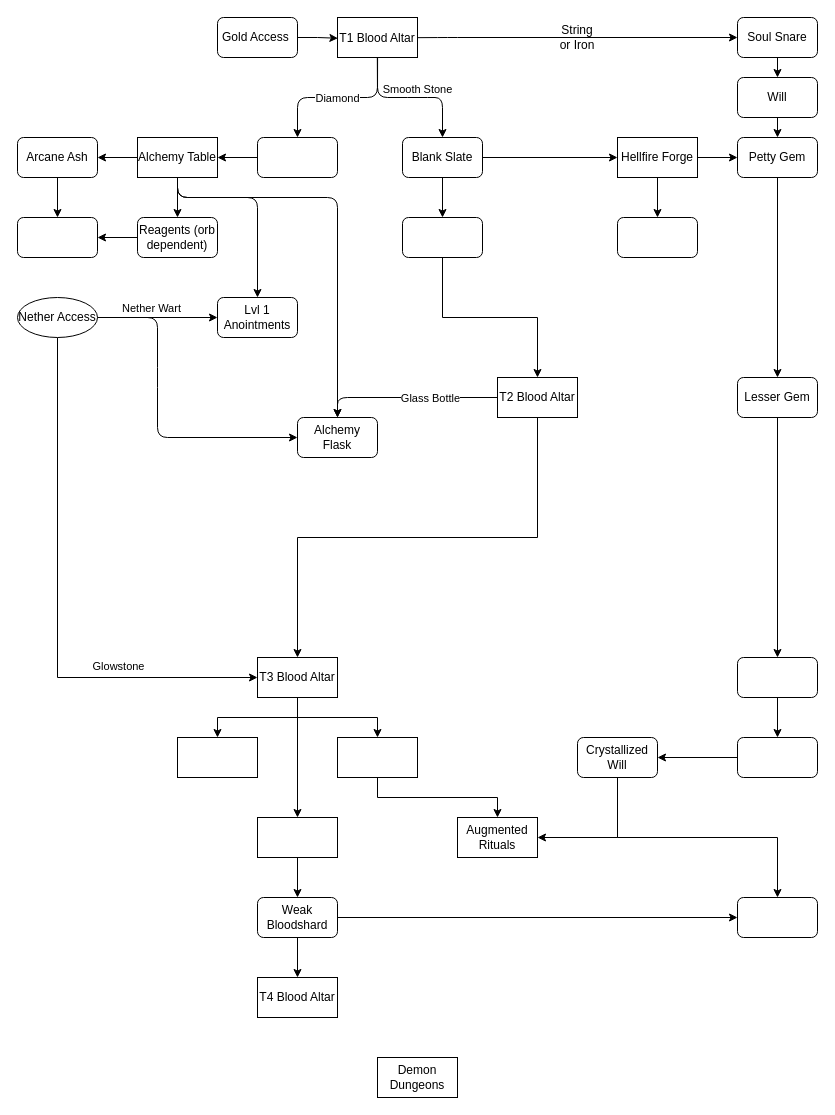
Image size: 835x1115. Some labels were removed from this diagram. Each missing label, with the box of its shape:
ARC: (256, 816, 338, 858)
Blank Rune: (402, 216, 482, 258)
Common Gem: (736, 656, 818, 698)
Demon Crystallizer & Crucible: (736, 736, 818, 778)
Greater Gem: (736, 896, 818, 938)
Living Armo(u)r: (176, 736, 258, 778)
Rituals: (336, 736, 418, 778)
Sentient Sword & Tools: (616, 216, 698, 258)
Sigils: (16, 216, 98, 258)
Weak Blood orb: (256, 136, 338, 178)
